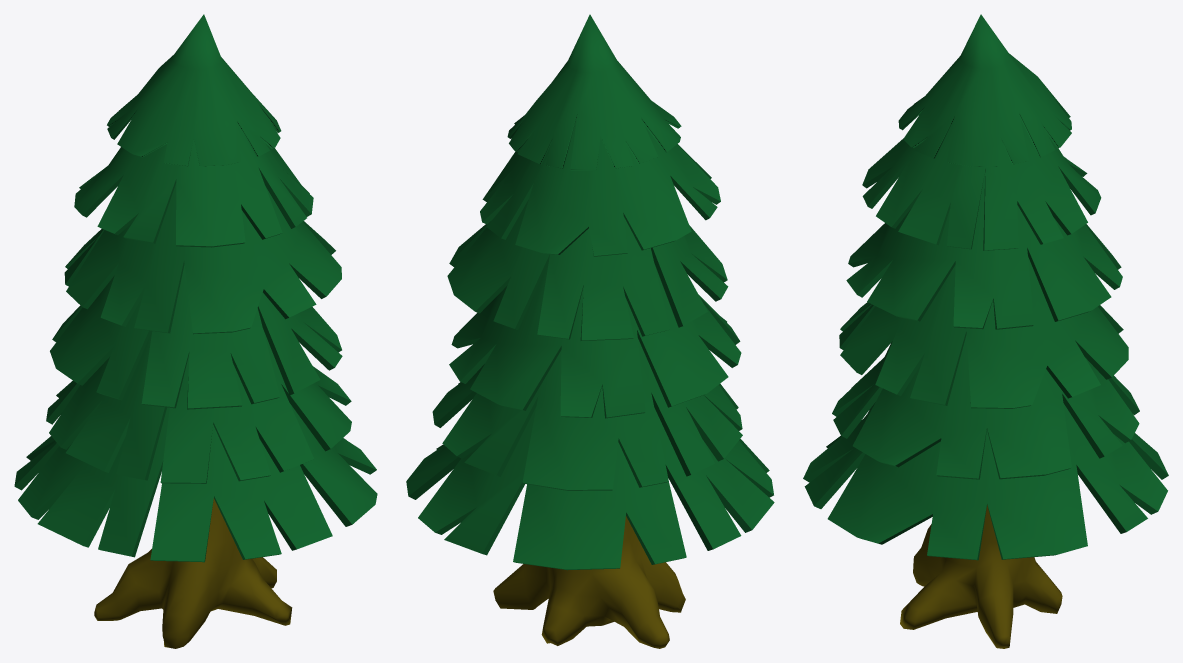
File: tree_v3.fbx
3 views of the same model, side by side, from view 1: azimuth 30°, elevation 25°; view 2: azimuth 150°, elevation 25°; view 3: azimuth 270°, elevation 25° (orthographic).
Parts seen in each view (by area): view 1: t3mesh; view 2: t3mesh; view 3: t3mesh.
Boxes of the visible parts, box(x1,y1,x2,y2) form: t3mesh: box(14, 14, 377, 648); t3mesh: box(406, 14, 774, 648); t3mesh: box(803, 14, 1168, 648).
Size of the model in its own units: 1.66 by 2.98 by 1.65.
